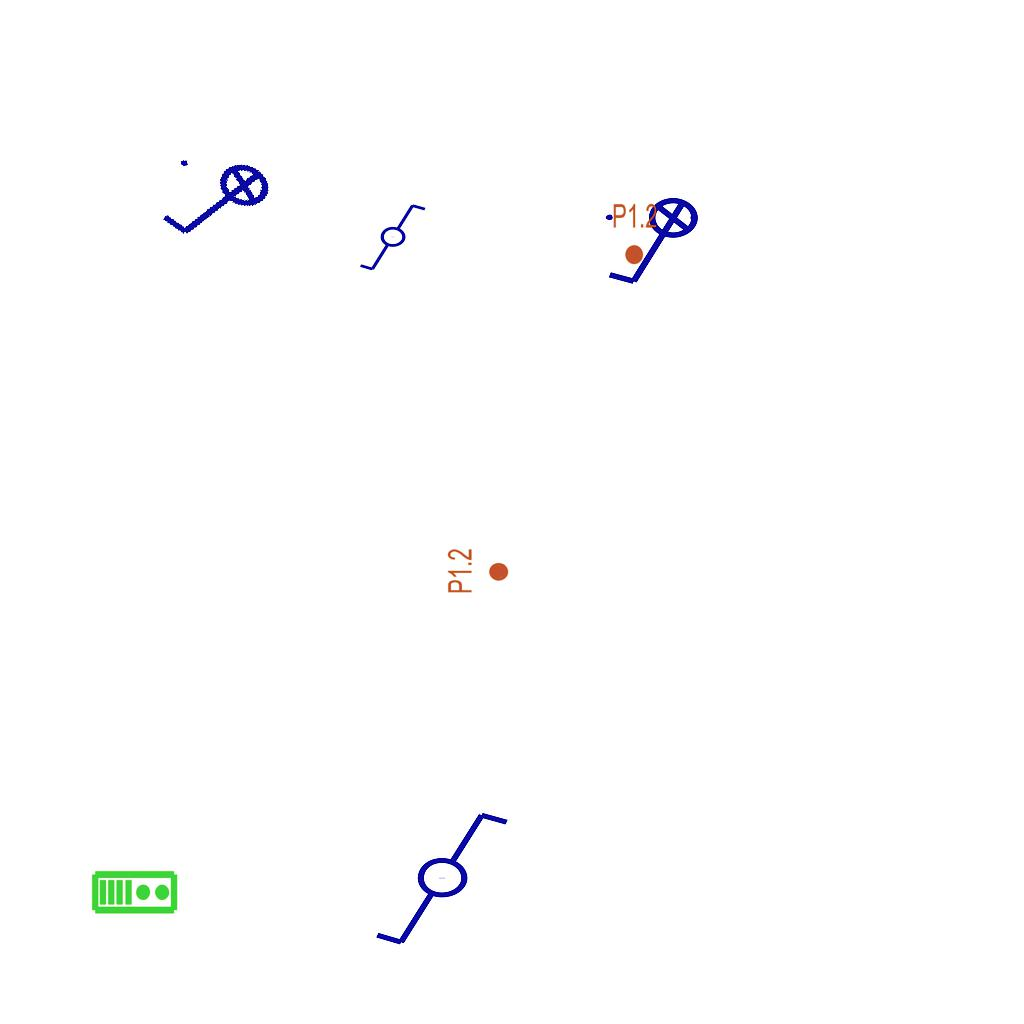Ausschalter_beleuchtet: (149, 139, 289, 269), (600, 196, 712, 292)
Downlight_LED_Einbauleuchten_Flur: (446, 548, 510, 594), (612, 202, 658, 266)
Gegensprechanlage_mit_Video: (91, 868, 179, 915)
Wechselschalter: (372, 808, 529, 952), (358, 202, 436, 274)
